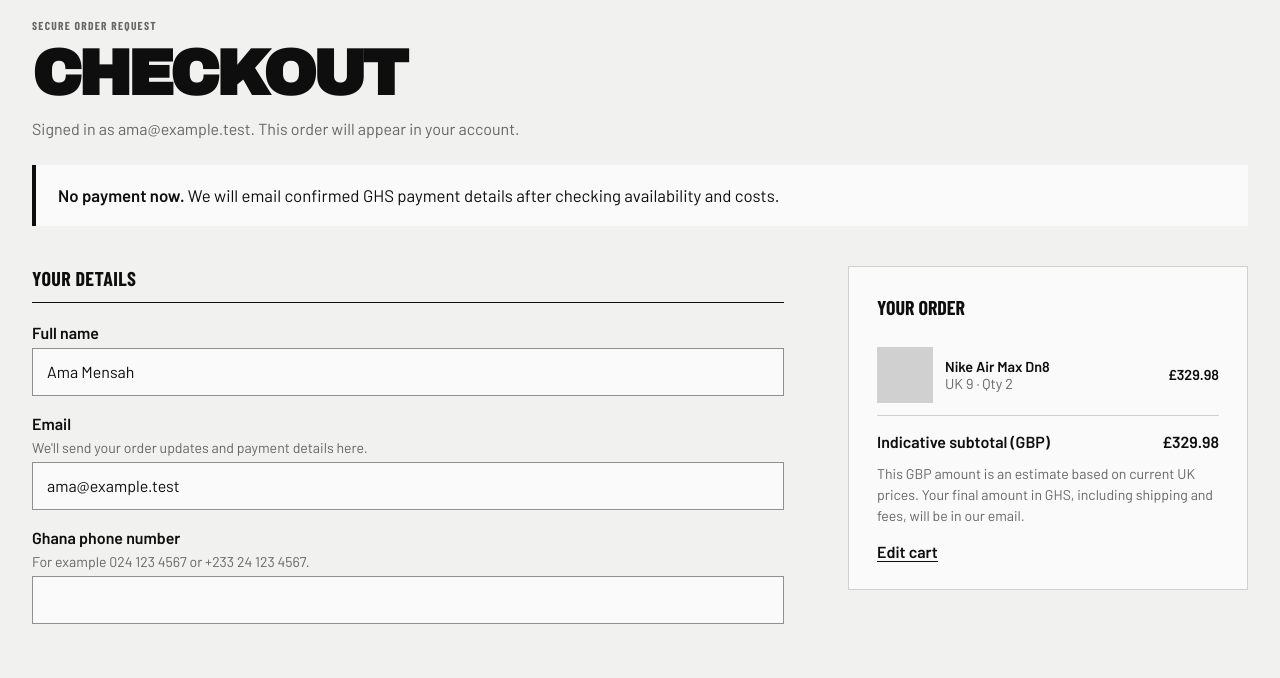
Test: signed-in customers send their token and get prefilled details
This screenshot has width=1280, height=678.
Check: the field labelled "Full name" holds "Ama Mensah", box [32, 348, 784, 396]
Check: the text "Signed in as ama@example.test" is shown, box [32, 119, 519, 138]
Type "0241234567" into the field labelled "Ghana phone number".
click(408, 600); type("0241234567")  # box [32, 576, 784, 624]
(page scrolled)
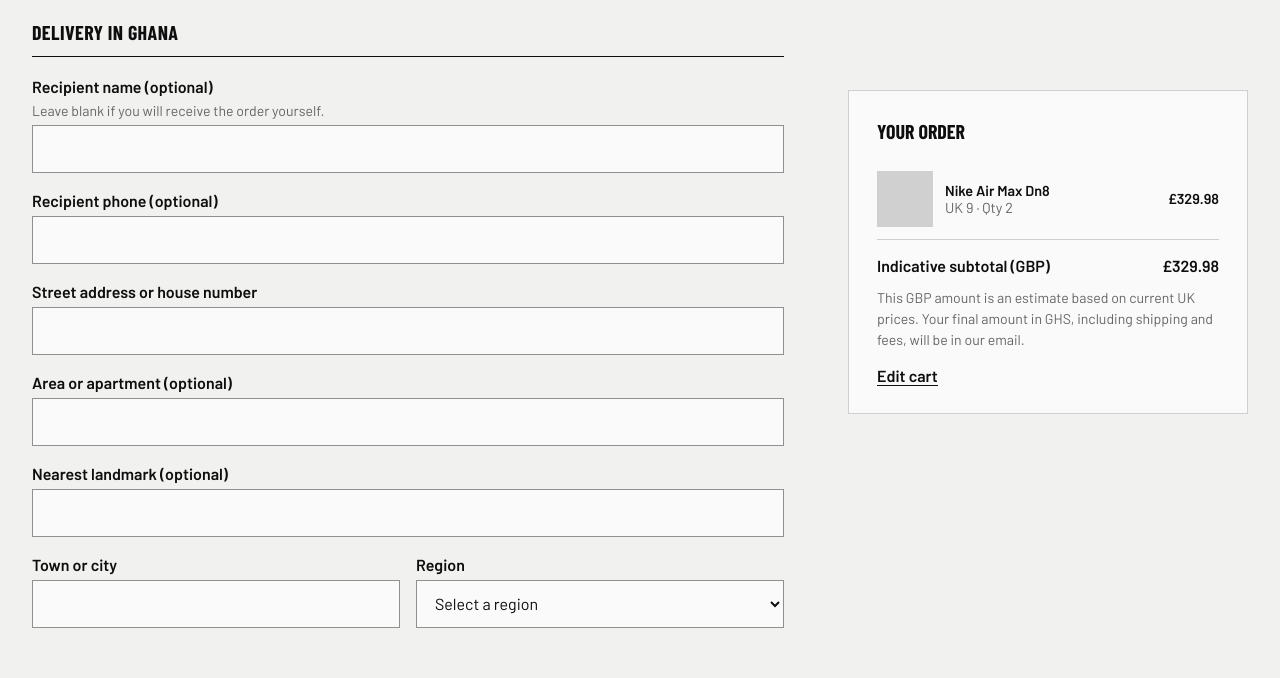
Type "12 Ring Road East" into the field labelled "Street address or house number".
click(408, 331); type("12 Ring Road East")  # box [32, 307, 784, 355]
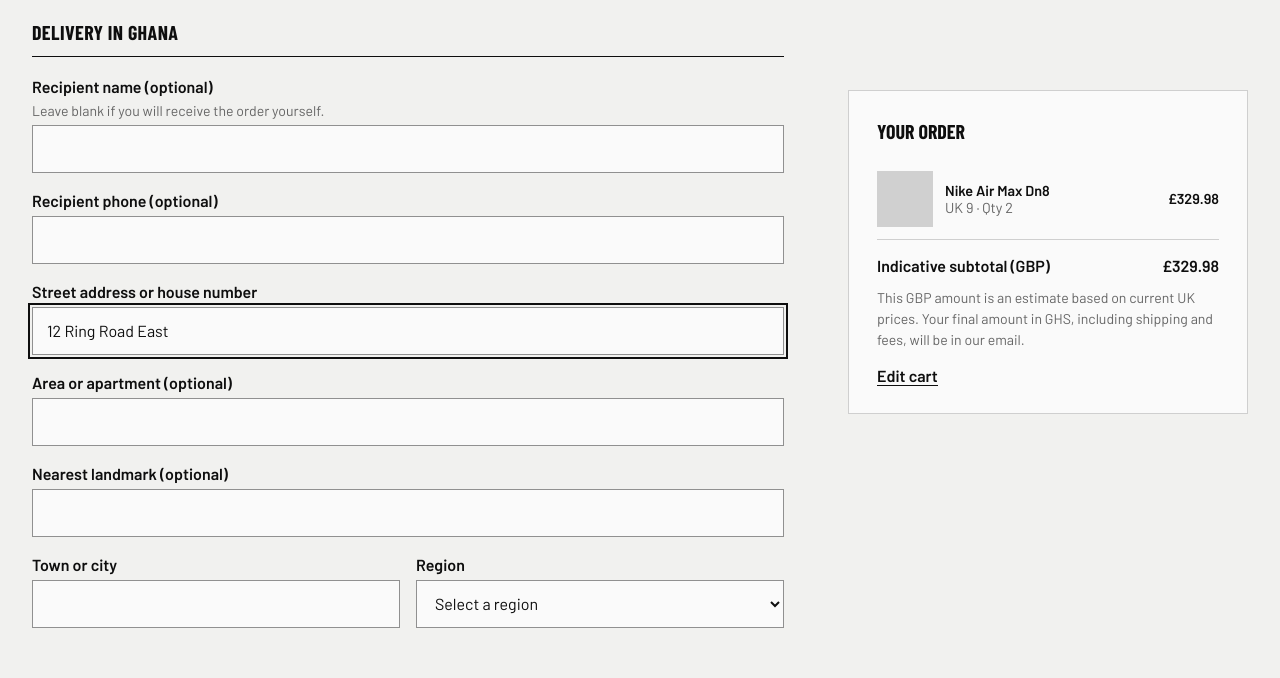
Type "Accra" into the field labelled "Town or city".
click(216, 604); type("Accra")  # box [32, 580, 400, 628]
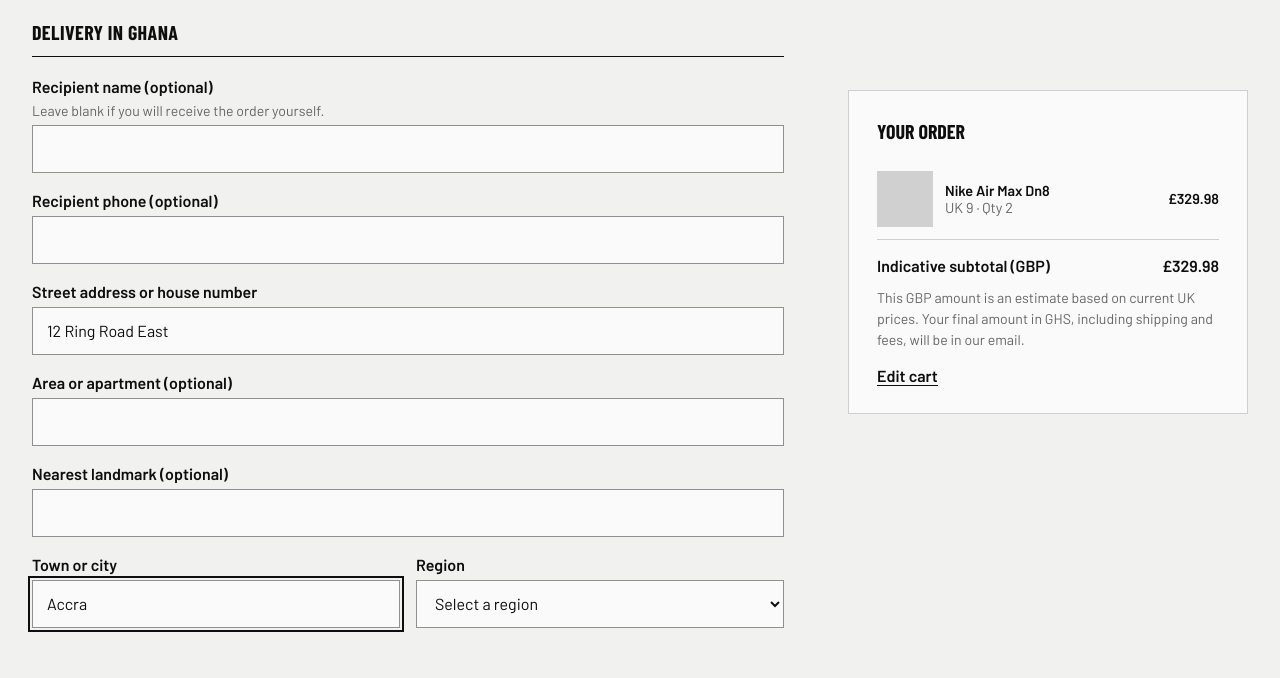
Select "Ashanti" in the dropdown labelled "Region" at (600, 604), box [416, 580, 784, 628]
(page scrolled)
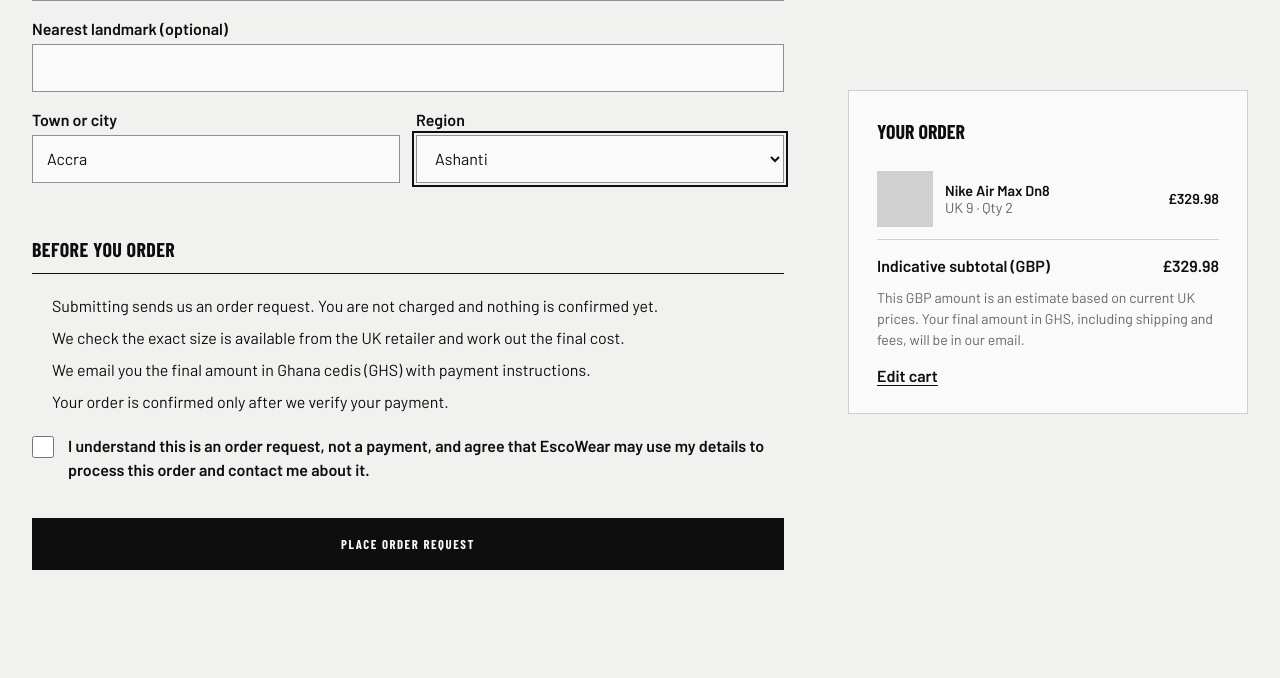
Click the checkbox labelled "I understand this is an order request".
click(43, 447)  # box [32, 436, 54, 458]
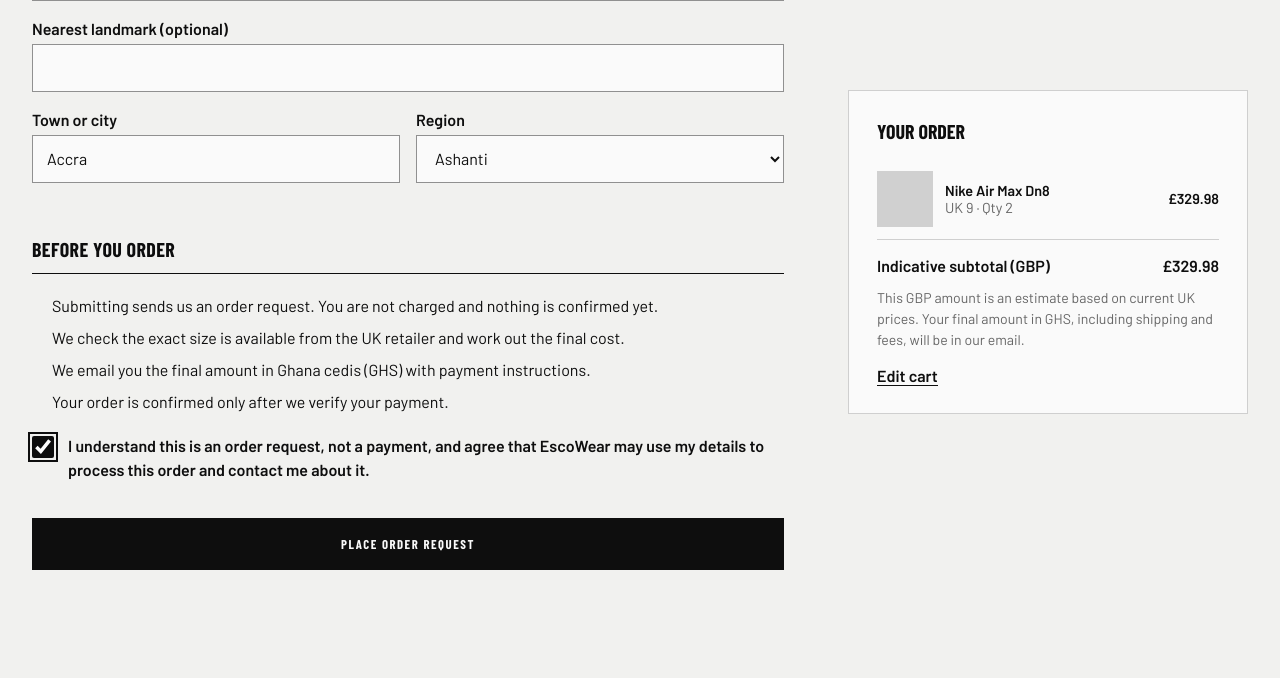
Click the button "Place order request".
click(408, 544)  # box [32, 518, 784, 570]
(page scrolled)
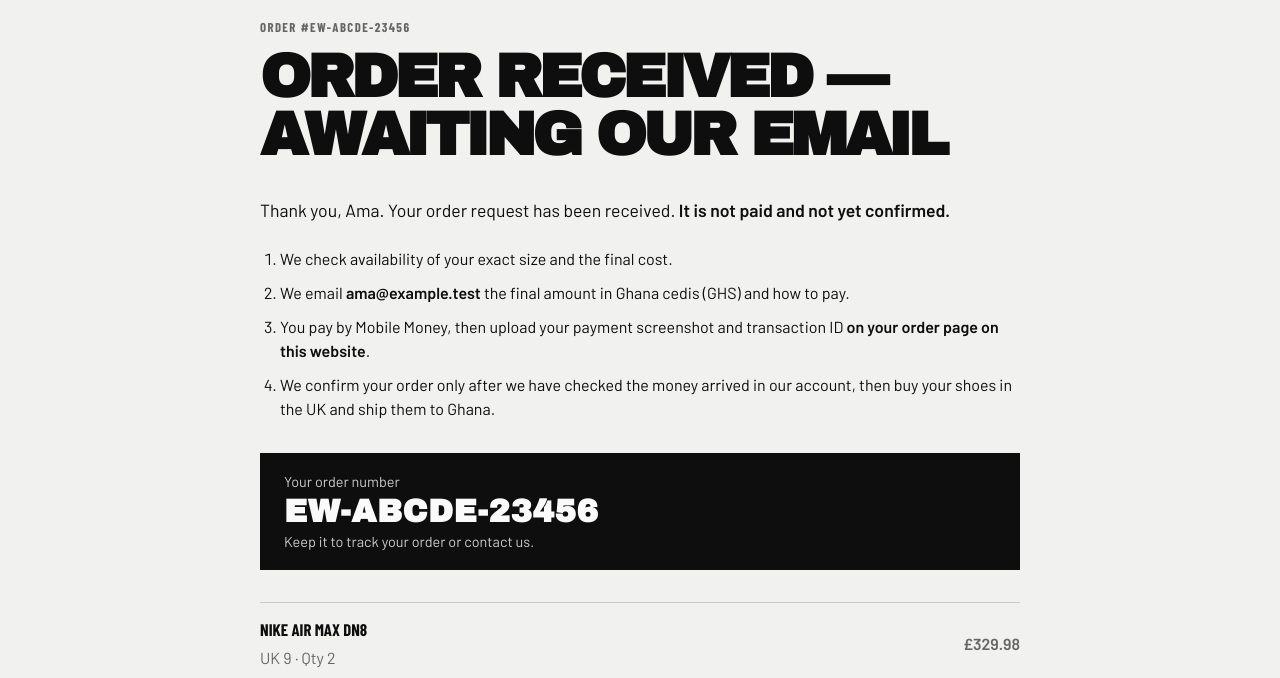
Check: the heading "Order received — awaiting our email" is shown, box [260, 49, 1020, 165]
